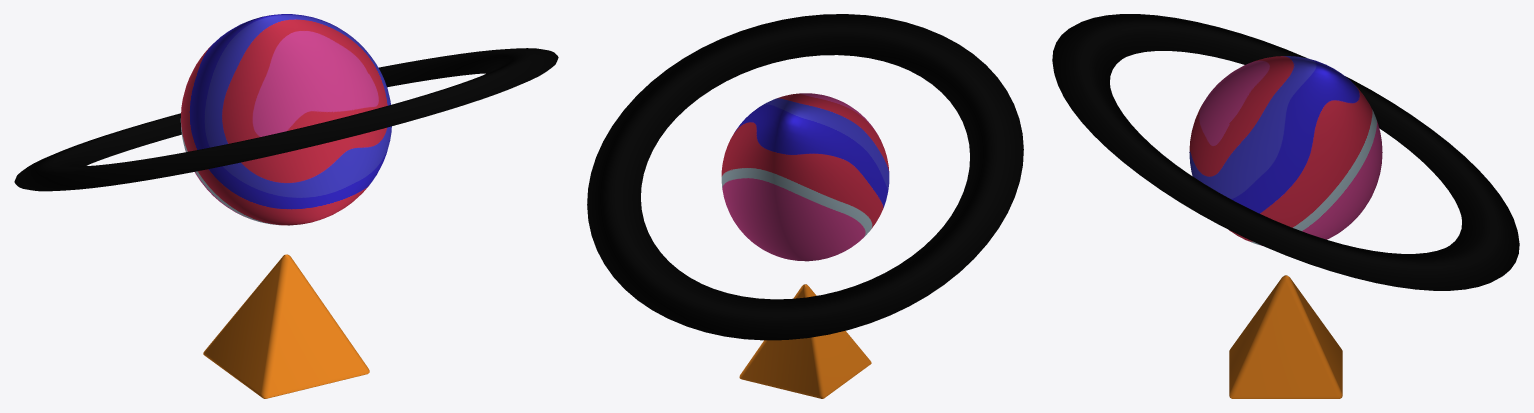
The model's file is Planet.fbx.
The picture shows the model from 3 angles, left to right: view 1: azimuth 30°, elevation 25°; view 2: azimuth 150°, elevation 25°; view 3: azimuth 270°, elevation 25°; orthographic projection. The views are drawn at different scales.
Parts seen in each view (by area): view 1: Planet; view 2: Planet; view 3: Planet.
Boxes of the visible parts, left/top/right/bottom form: Planet: left=14, top=14, right=558, bottom=398; Planet: left=587, top=14, right=1023, bottom=398; Planet: left=1052, top=14, right=1519, bottom=398.
Size of the model in its own units: 202 by 139 by 185.
